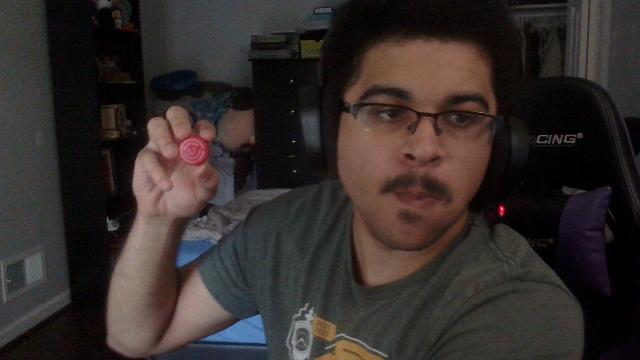cap: (180, 136, 208, 166)
